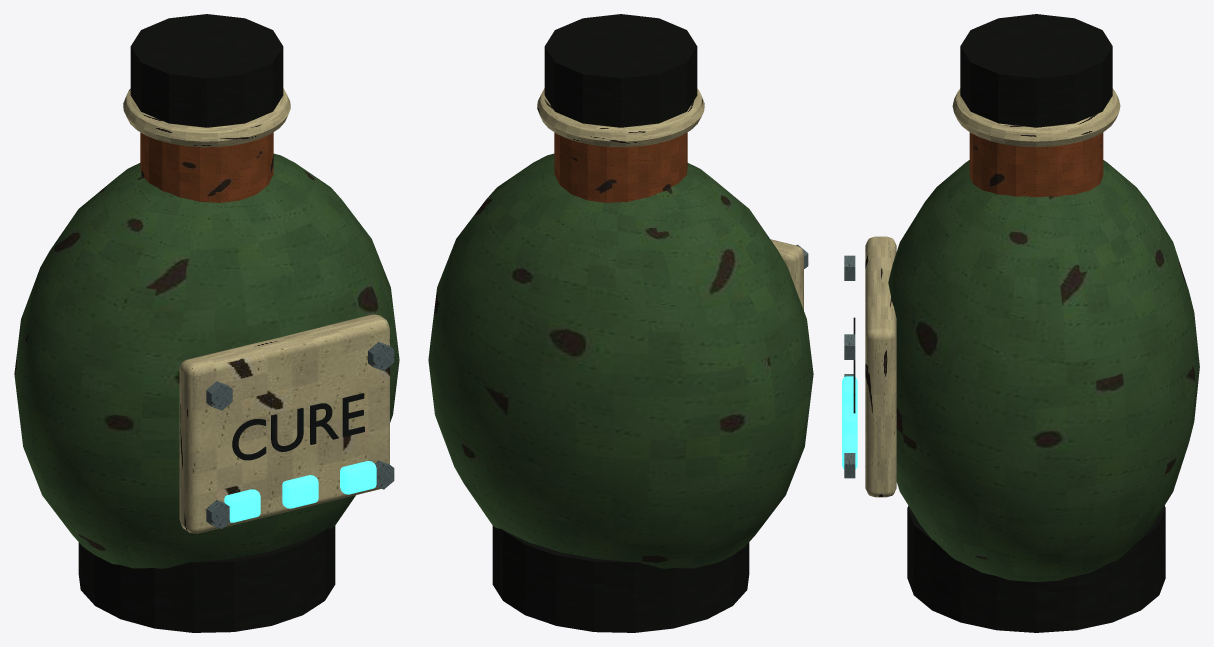
Rendered from eq-cleansecore.glb.
3 renders of one model, left to right at view 1: azimuth 30°, elevation 25°; view 2: azimuth 150°, elevation 25°; view 3: azimuth 270°, elevation 25°, orthographic.
Parts seen in each view (by area): view 1: Bottle body, Cream inset.006, Bottle foot, Stopper, Bottle neck, Neck rim, Mark_CURE, Dose light.004, Dose light.005, Dose light.003, Hex fastener.025, Hex fastener.027 (+1 smaller); view 2: Bottle body, Bottle foot, Stopper, Bottle neck, Neck rim, Cream inset.006; view 3: Bottle body, Bottle foot, Stopper, Cream inset.006, Bottle neck, Neck rim.
Part boxes in pixels (x1,y1,x2,y2): Bottle body: (14, 153, 399, 568); Cream inset.006: (179, 314, 389, 533); Bottle foot: (78, 526, 335, 632); Stopper: (130, 14, 283, 127); Bottle neck: (140, 132, 273, 202); Neck rim: (123, 88, 290, 147); Mark_CURE: (232, 393, 364, 460); Dose light.004: (282, 475, 318, 508); Dose light.005: (340, 461, 376, 494); Dose light.003: (224, 489, 260, 522); Hex fastener.025: (206, 381, 232, 410); Hex fastener.027: (368, 342, 394, 370); Bottle body: (428, 153, 813, 568); Bottle foot: (492, 526, 749, 632); Stopper: (544, 14, 697, 127); Bottle neck: (554, 132, 687, 202); Neck rim: (537, 88, 704, 147); Cream inset.006: (770, 239, 803, 310); Bottle body: (888, 160, 1199, 582); Bottle foot: (907, 505, 1165, 632); Stopper: (960, 14, 1112, 127); Cream inset.006: (865, 236, 896, 497); Bottle neck: (969, 132, 1103, 197); Neck rim: (952, 88, 1120, 147).
Size of the model in its own units: 0.26 by 0.3775 by 0.23.
7 materials, 7 textured.
